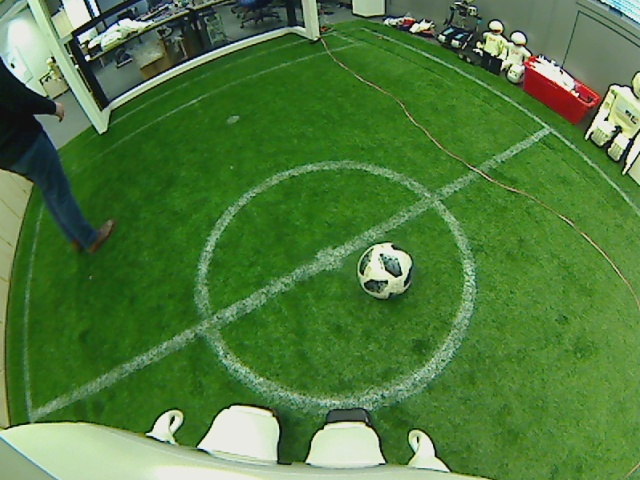ball: (357, 244, 413, 299)
